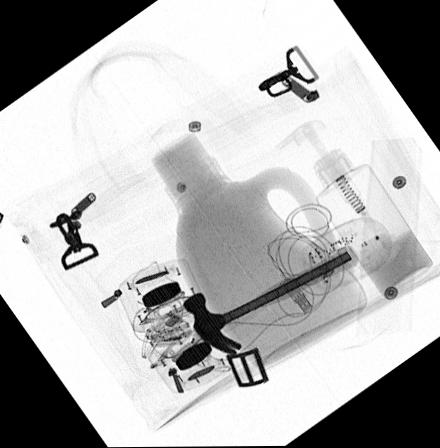Hammer: (180, 244, 358, 354)
